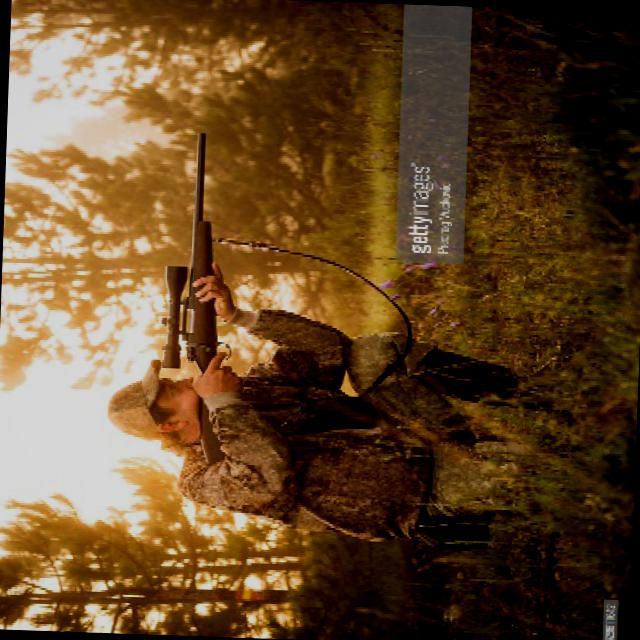long weapon: (152, 118, 246, 467)
